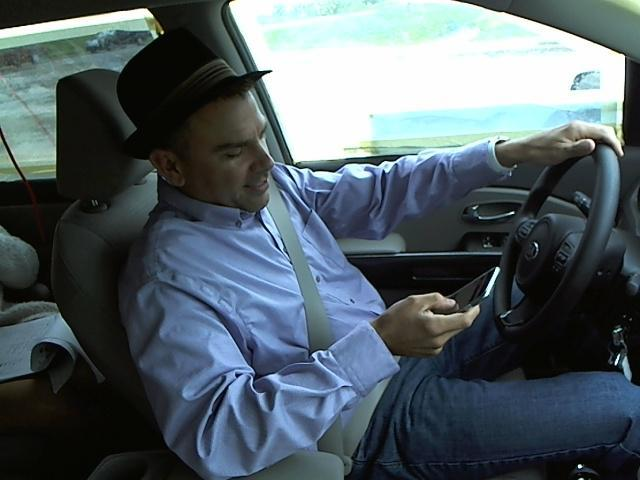PhoneUse: (426, 265, 511, 314)
